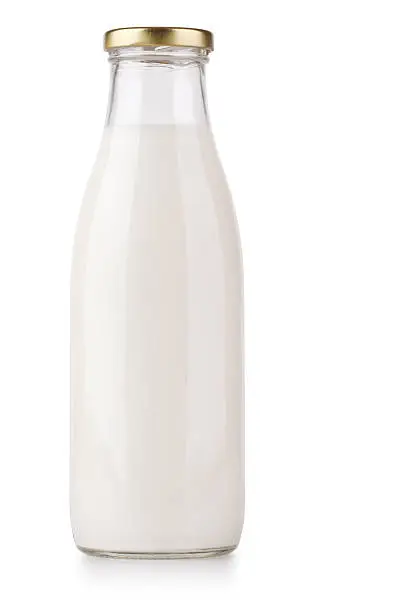glass_bottle: (53, 19, 261, 577)
